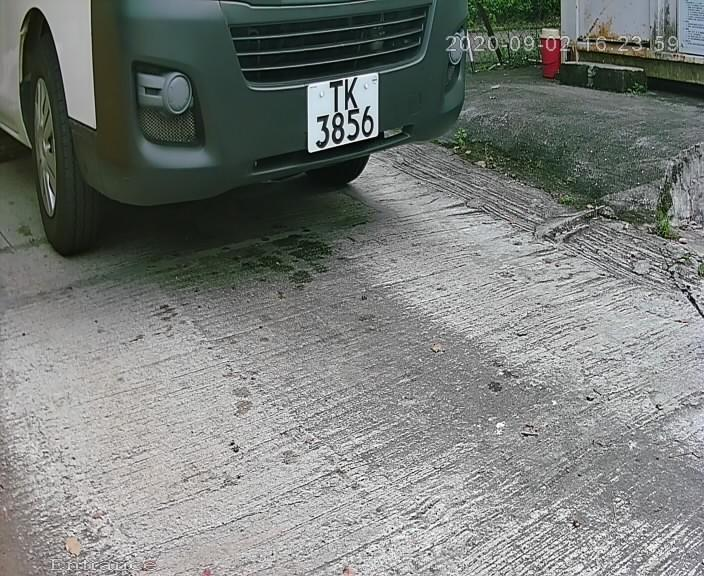Car: (29, 1, 475, 268)
License Plate: (296, 62, 387, 163)
